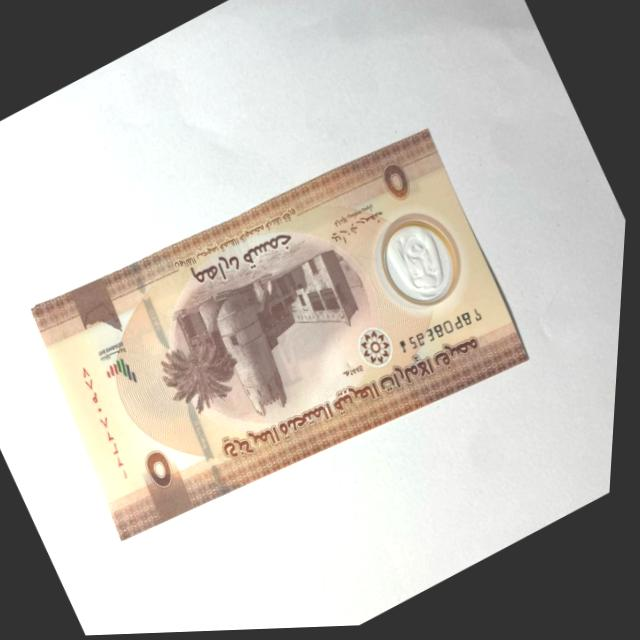5_AED: (34, 127, 532, 542)
